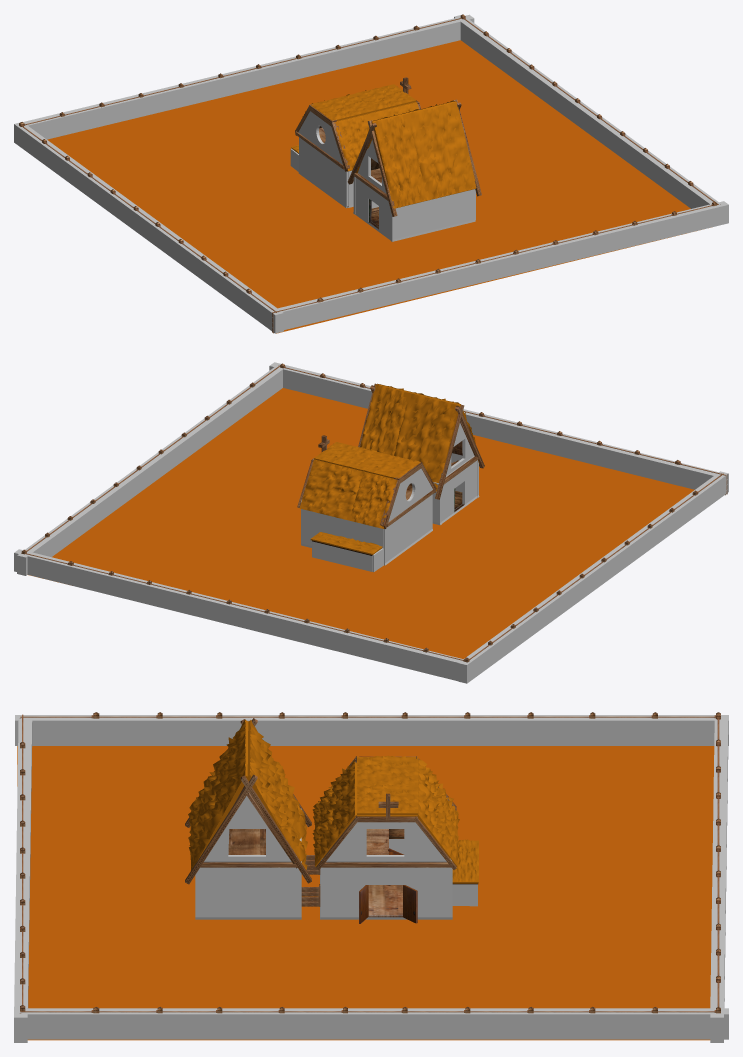
Rendered from whole-map.obj.
3 views of the same model, one above another, from view 1: azimuth 30°, elevation 25°; view 2: azimuth 150°, elevation 25°; view 3: azimuth 270°, elevation 25° (orthographic). The views are drawn at different scales.
Parts seen in each view (by area): view 1: floor, girðing4_coll, girðing2_coll, girðing1_coll, girðing3_coll, Plane.015, Plane.017, Cube.015, Cube.021, Plane.013, Cube.016, Plane.004 (+6 smaller); view 2: floor, girðing2_coll, girðing4_coll, girðing1_coll, girðing3_coll, Plane.019, Plane.009, Plane.018, Cube.021, Plane.006, Cube.003, Cube.016 (+9 smaller); view 3: floor, girðing3_coll, girðing1_coll, Cube.020, Cube.010, girðing4_coll, girðing2_coll, Cube.018, Plane.015, Cube.007, Plane.019, Plane.004 (+20 smaller).
Boxes of the visible parts, x1,y1,x2,y2 form: floor: [47, 40, 696, 333]; girðing4_coll: [271, 201, 728, 329]; girðing2_coll: [18, 14, 474, 139]; girðing1_coll: [14, 122, 283, 333]; girðing3_coll: [454, 14, 722, 208]; Plane.015: [407, 102, 476, 200]; Plane.017: [373, 114, 427, 208]; Cube.015: [390, 189, 475, 241]; Cube.021: [298, 137, 348, 208]; Plane.013: [334, 114, 369, 171]; Cube.016: [355, 177, 390, 240]; Plane.004: [310, 94, 377, 120]; floor: [28, 388, 694, 658]; girðing2_coll: [14, 549, 470, 681]; girðing4_coll: [269, 362, 725, 489]; girðing1_coll: [458, 471, 728, 683]; girðing3_coll: [17, 363, 286, 575]; Plane.019: [394, 393, 459, 491]; Plane.009: [299, 459, 363, 520]; Plane.018: [360, 384, 409, 455]; Cube.021: [383, 494, 432, 565]; Plane.006: [349, 472, 397, 528]; Cube.003: [301, 509, 383, 565]; Cube.016: [441, 461, 477, 523]; floor: [17, 746, 714, 1040]; girðing3_coll: [15, 1008, 728, 1039]; girðing1_coll: [15, 715, 728, 745]; Cube.020: [199, 867, 297, 919]; Cube.010: [320, 867, 452, 919]; girðing4_coll: [14, 715, 32, 1042]; girðing2_coll: [710, 715, 728, 1042]; Cube.018: [321, 822, 451, 862]; Plane.015: [188, 742, 247, 870]; Cube.007: [204, 792, 291, 862]; Plane.019: [248, 720, 307, 849]; Plane.004: [356, 755, 418, 786].
Size of the model in its own units: 101 by 23.01 by 101.
